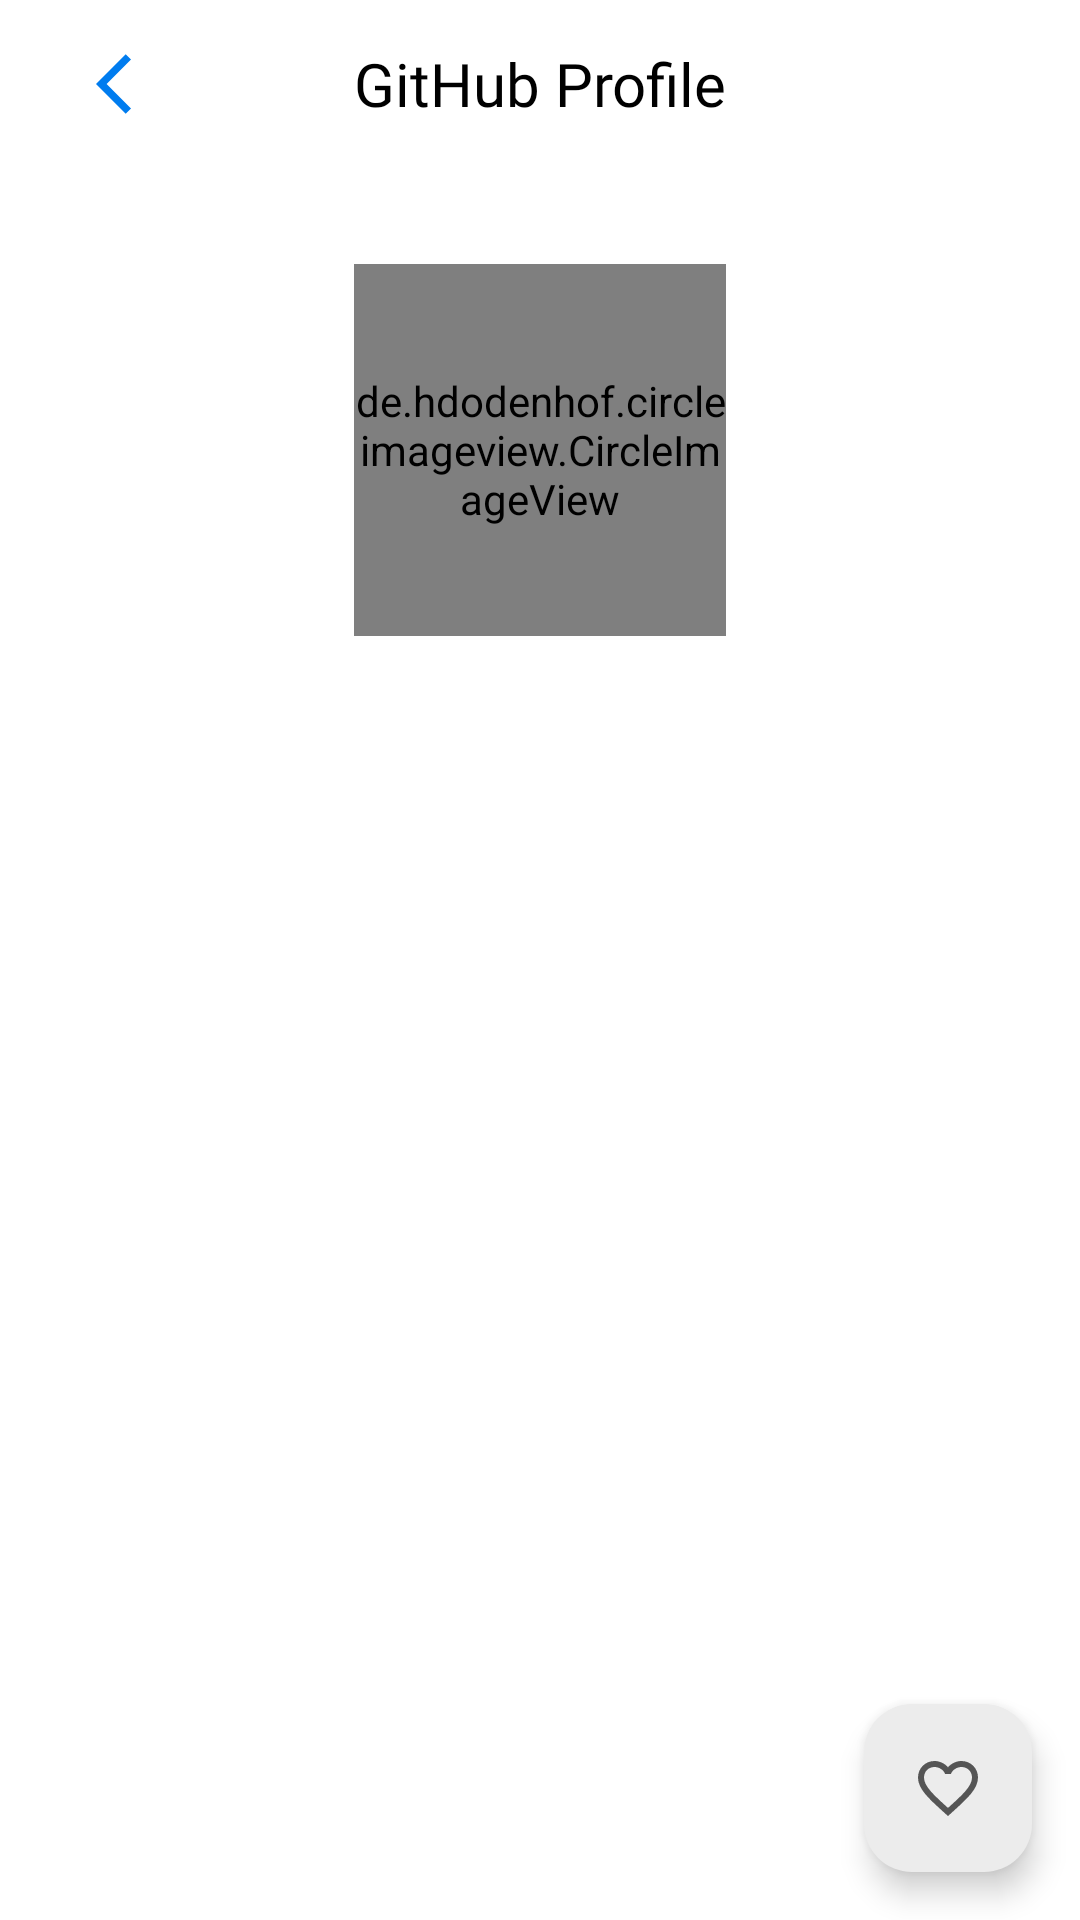

Icons on this 1080px×1920px Android screen, each with the point to tap as [x,y]:
Add to Favorite: [956,1816]
